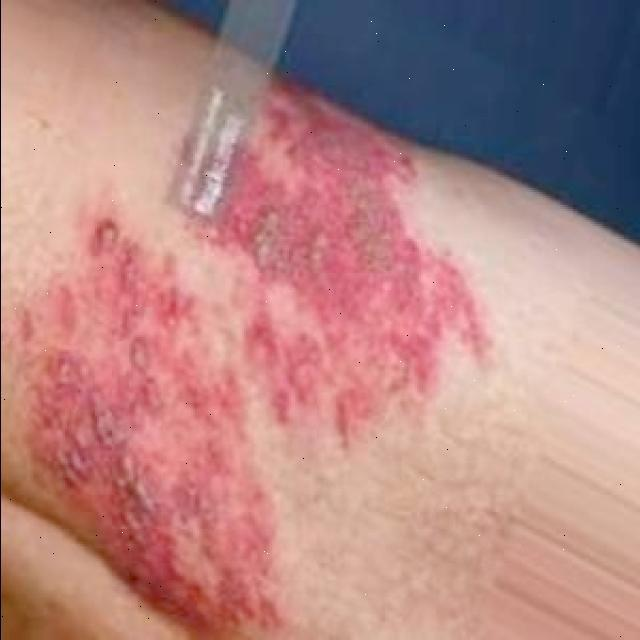Shingles: (184, 62, 491, 442), (16, 208, 282, 638)
